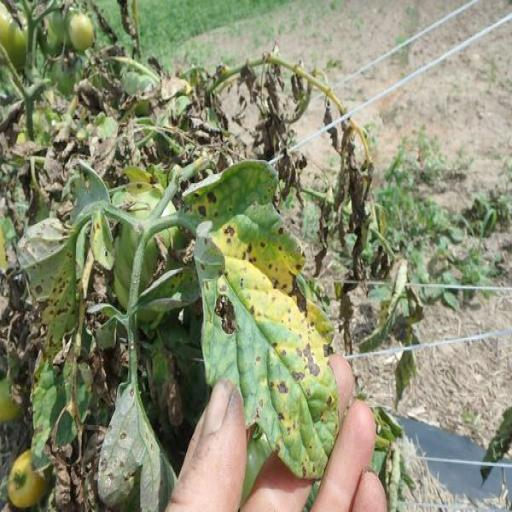disease_tomato: (185, 154, 341, 482), (97, 382, 177, 512), (20, 213, 88, 365)
